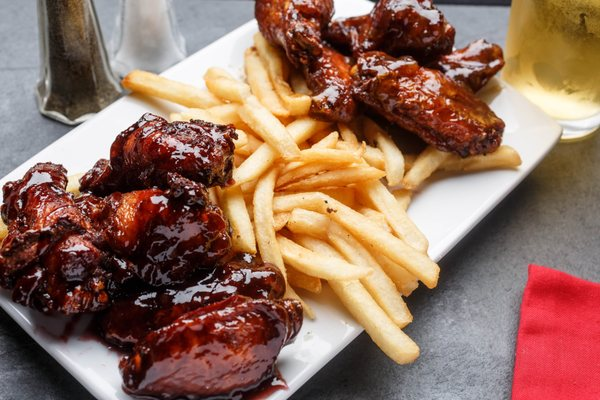pizza: (502, 0, 600, 142), (97, 0, 188, 80)
